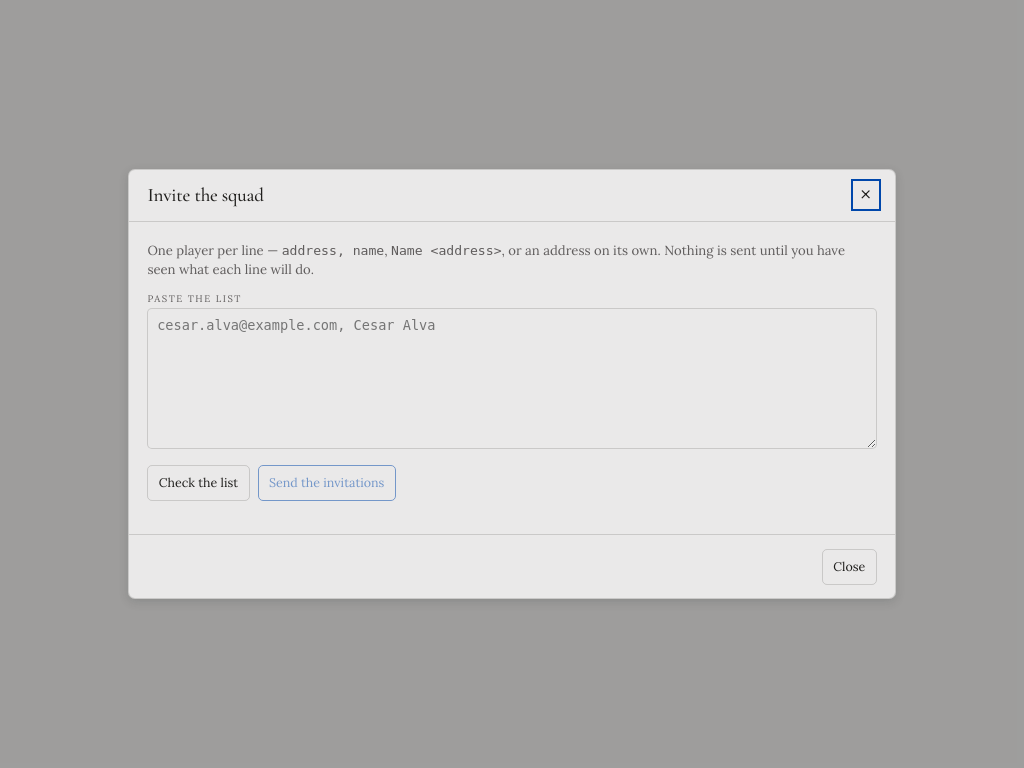
before anything is sent › lets the coach place an address that came with no name
This screenshot has width=1024, height=768.
Type "someone@example.com" into the text box labelled "Paste the list" at (512, 378), box [147,308,877,449]
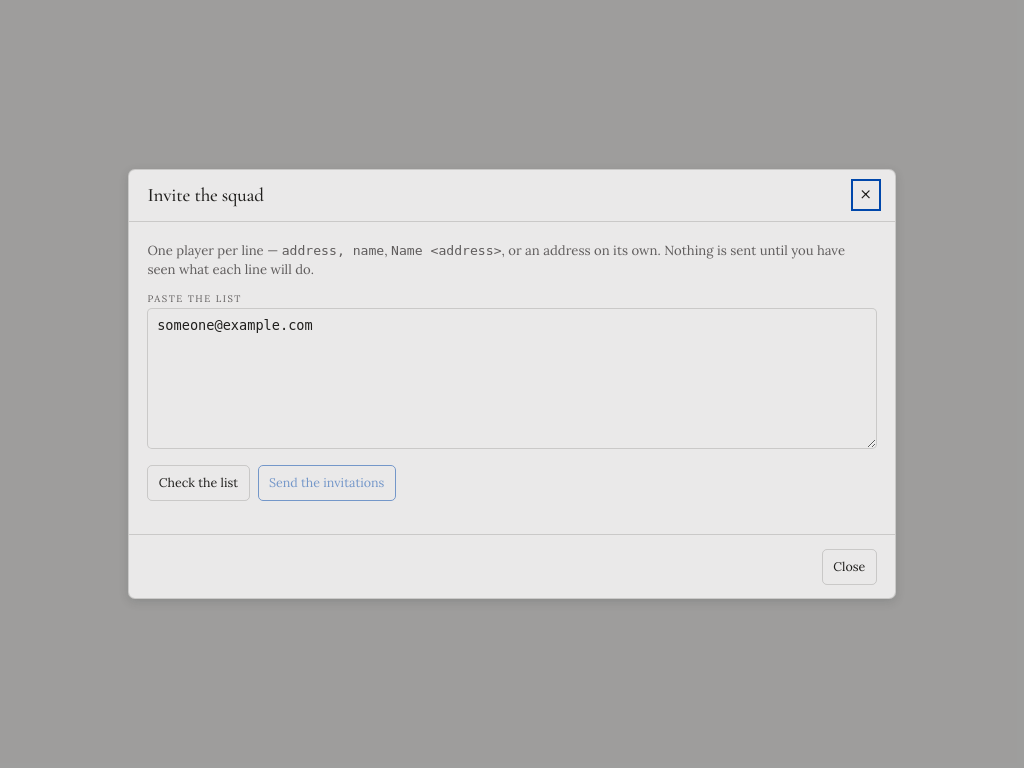
Click the button "Check the list" at (198, 483), box [147,465,250,501]
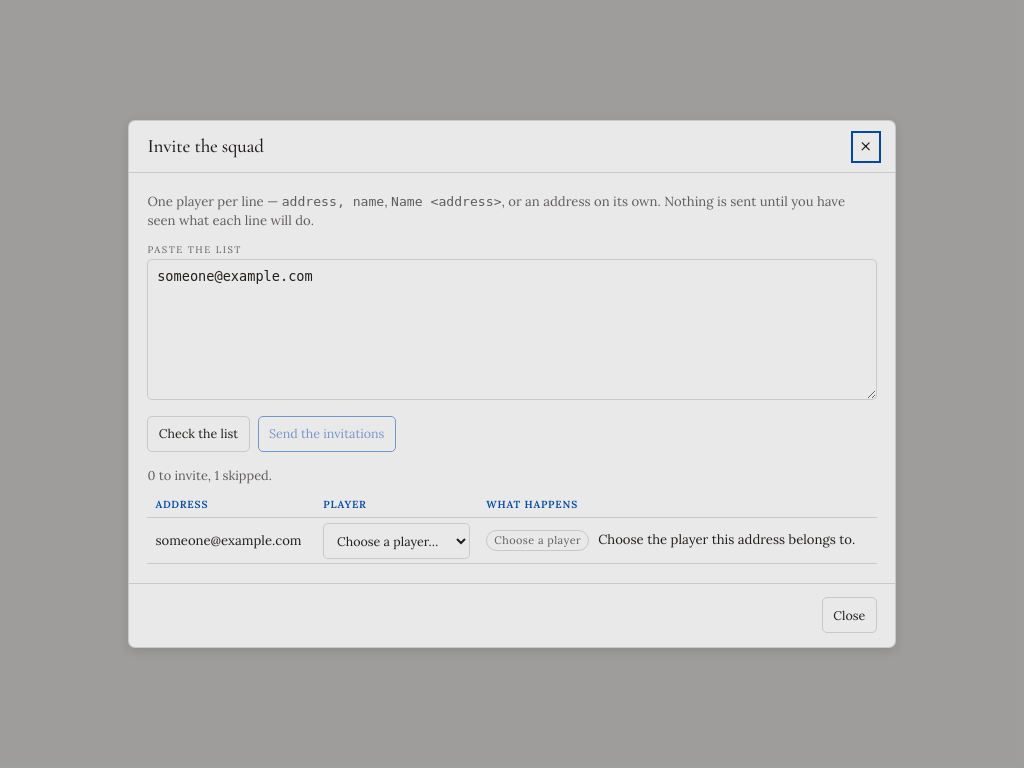
Select "Alain Renteria" in the dropdown at (397, 541), box [323,523,470,559]
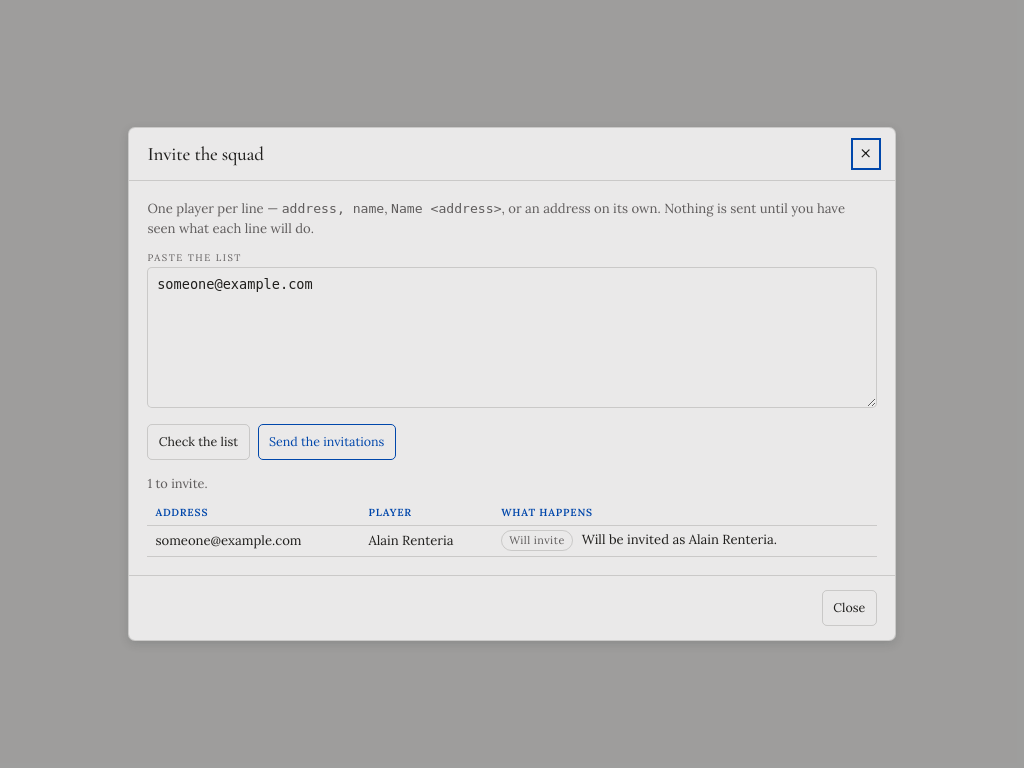
Result: the row that starts with "someone@example.com" shows "Alain Renteria" at [368,532,454,549]
